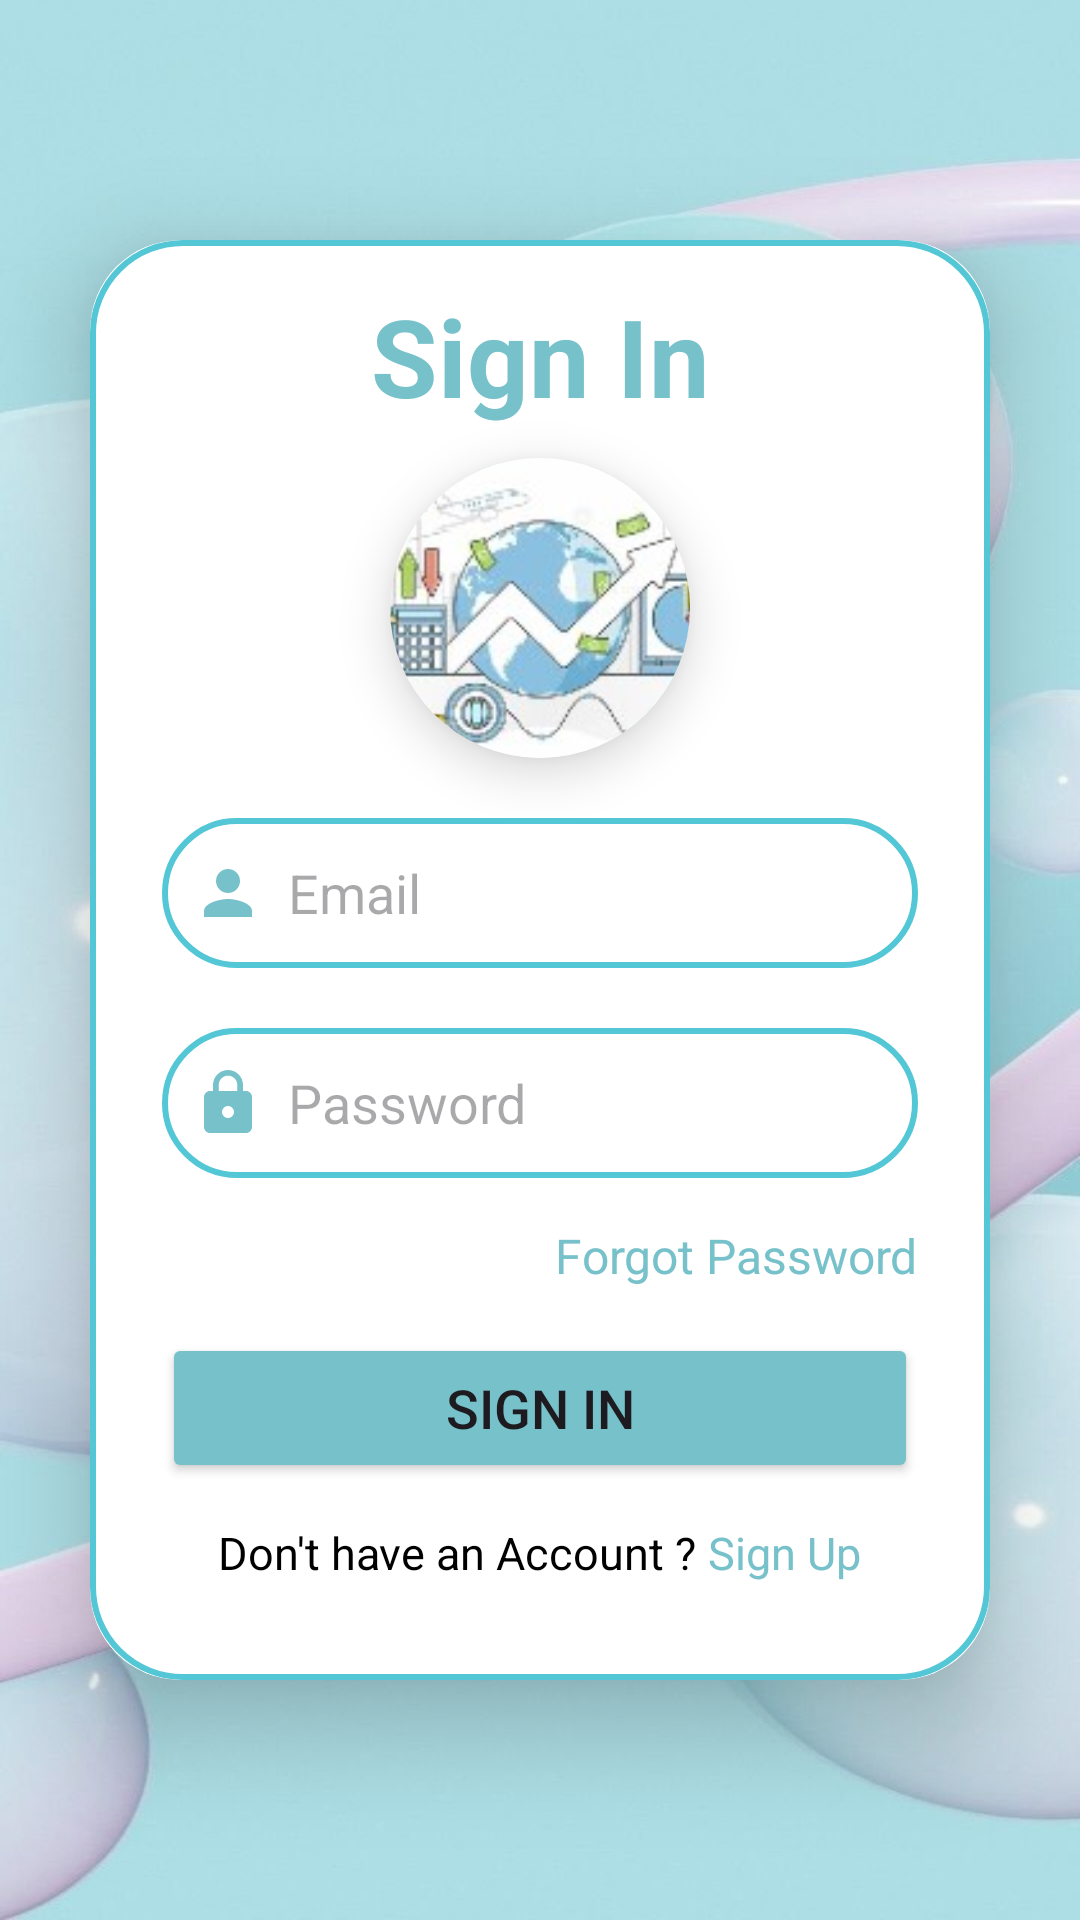

Point at icon controls on the screen. Image size 1080w x 1920h, points as (x,y).
earth: (540,623)
